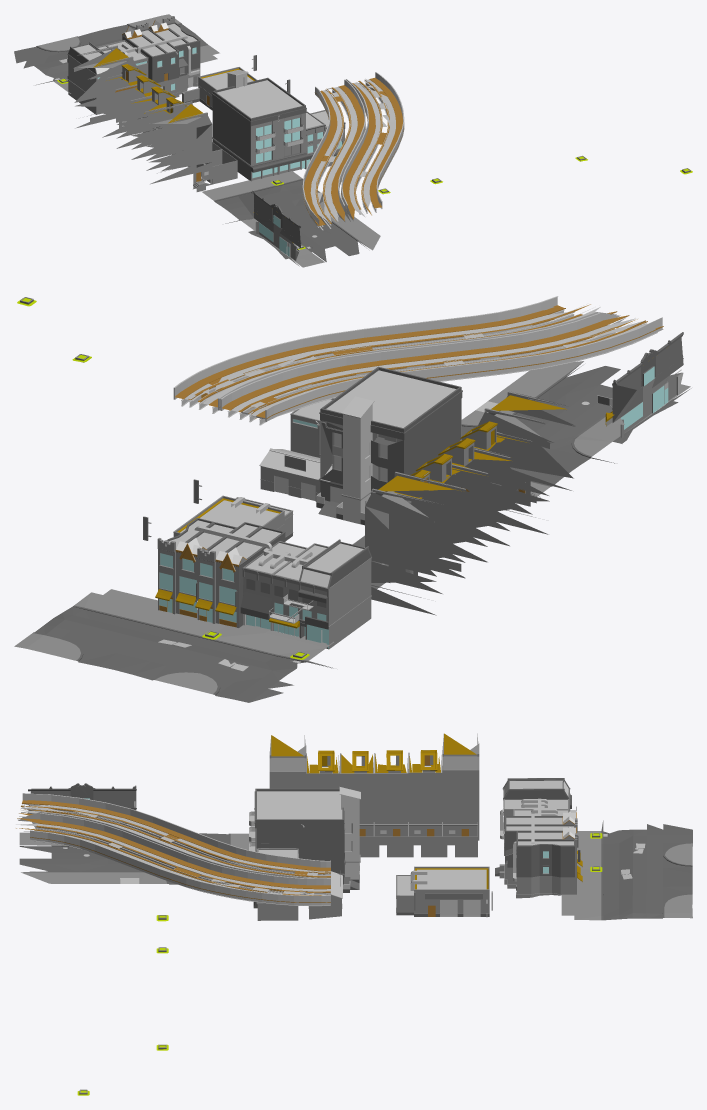
Rendered from brook_s2_4.FBX.
3 views of the same model, one above another, from view 1: azimuth 30°, elevation 25°; view 2: azimuth 150°, elevation 25°; view 3: azimuth 270°, elevation 25° (orthographic). The views are drawn at different scales.
Visible parts, largest first — view 1: null, unnamed; view 2: null, unnamed; view 3: unnamed, null.
Part boxes in pixels (x1,y1,x2,y2): null: [144, 69, 692, 267]; unnamed: [14, 14, 290, 159]; null: [17, 296, 691, 546]; unnamed: [14, 445, 491, 702]; unnamed: [341, 733, 692, 920]; null: [16, 735, 373, 1095].
Size of the model in its own units: 121 by 25.46 by 136.
